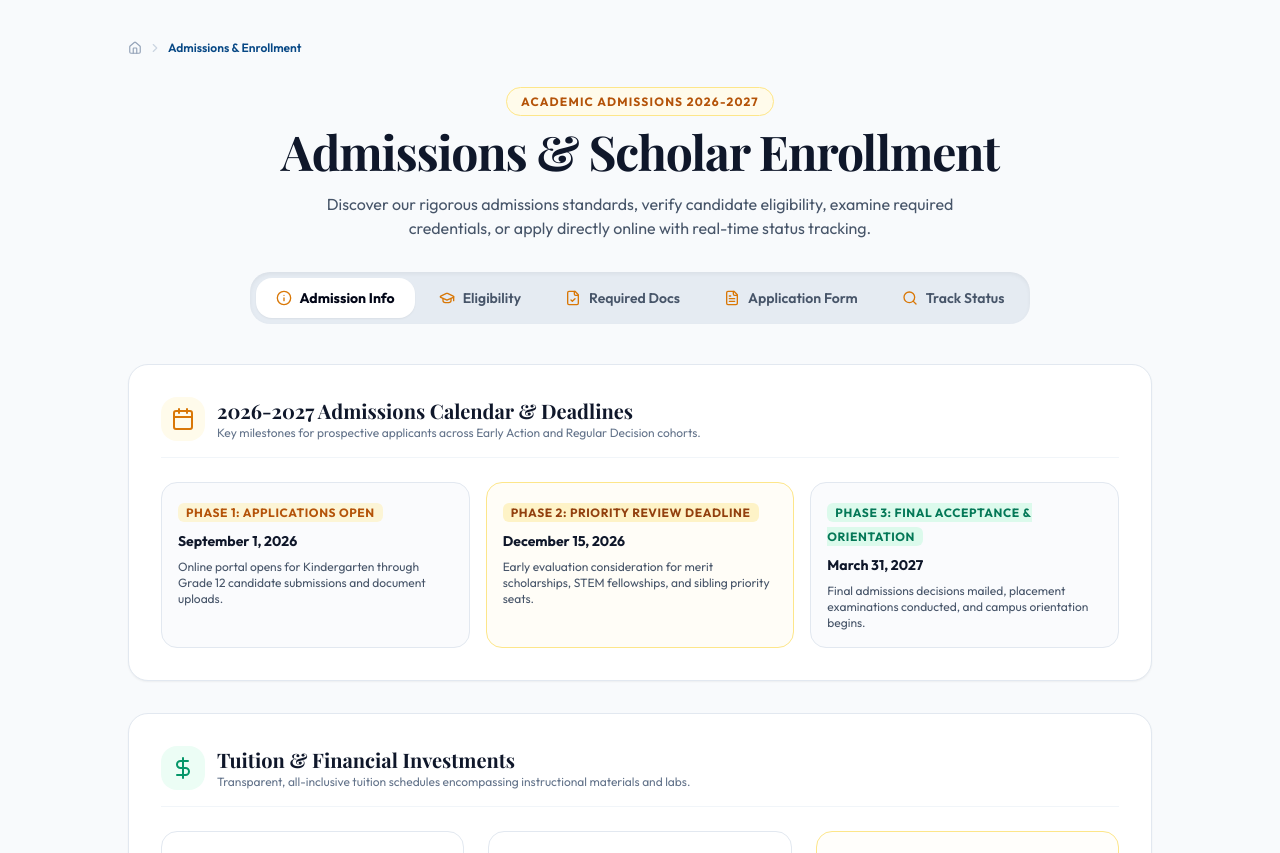
Test case: Phase 14 — Complete Admissions Workflow Test Suite › 2. Public Admissions Portal — Multi-Step Application Form & Draft Saving › allows saving application as draft and returns draft reference code
This screenshot has width=1280, height=853.
Click the button "Application Form": (791, 298) [704, 278, 878, 318]
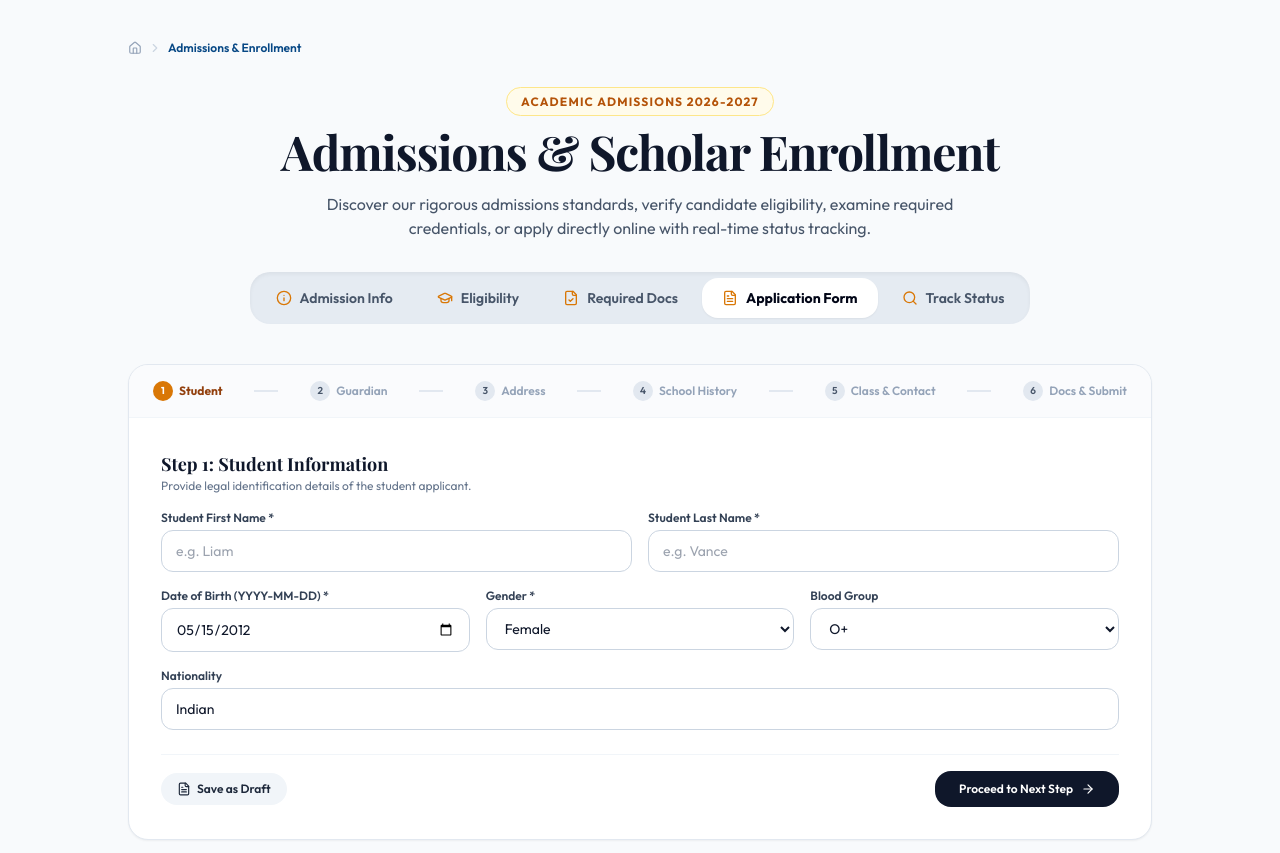
Note: Fill basic student info
In the field with placeholder "e.g. Liam": (396, 551) [161, 530, 632, 572], type "Grace"
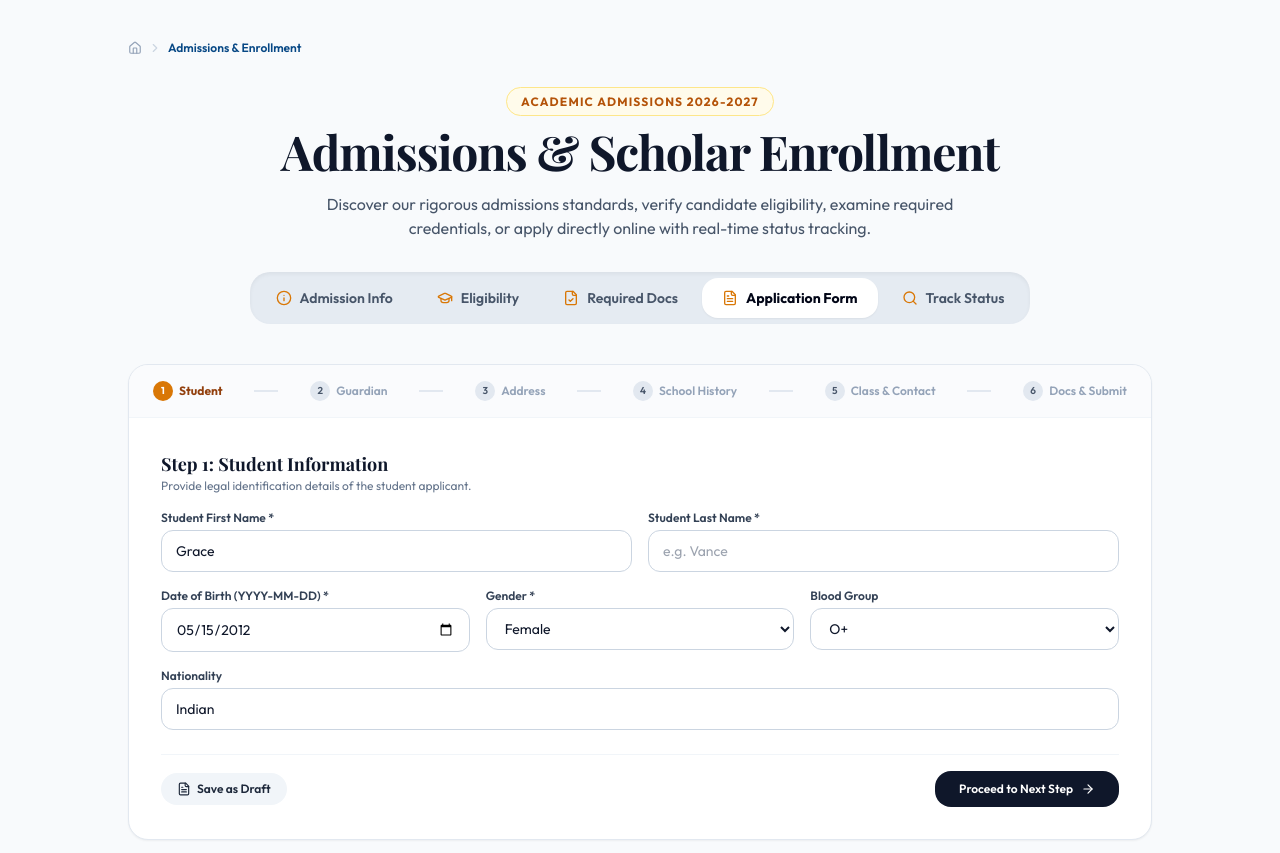
In the field with placeholder "e.g. Vance": (884, 551) [648, 530, 1119, 572], type "Hopper"
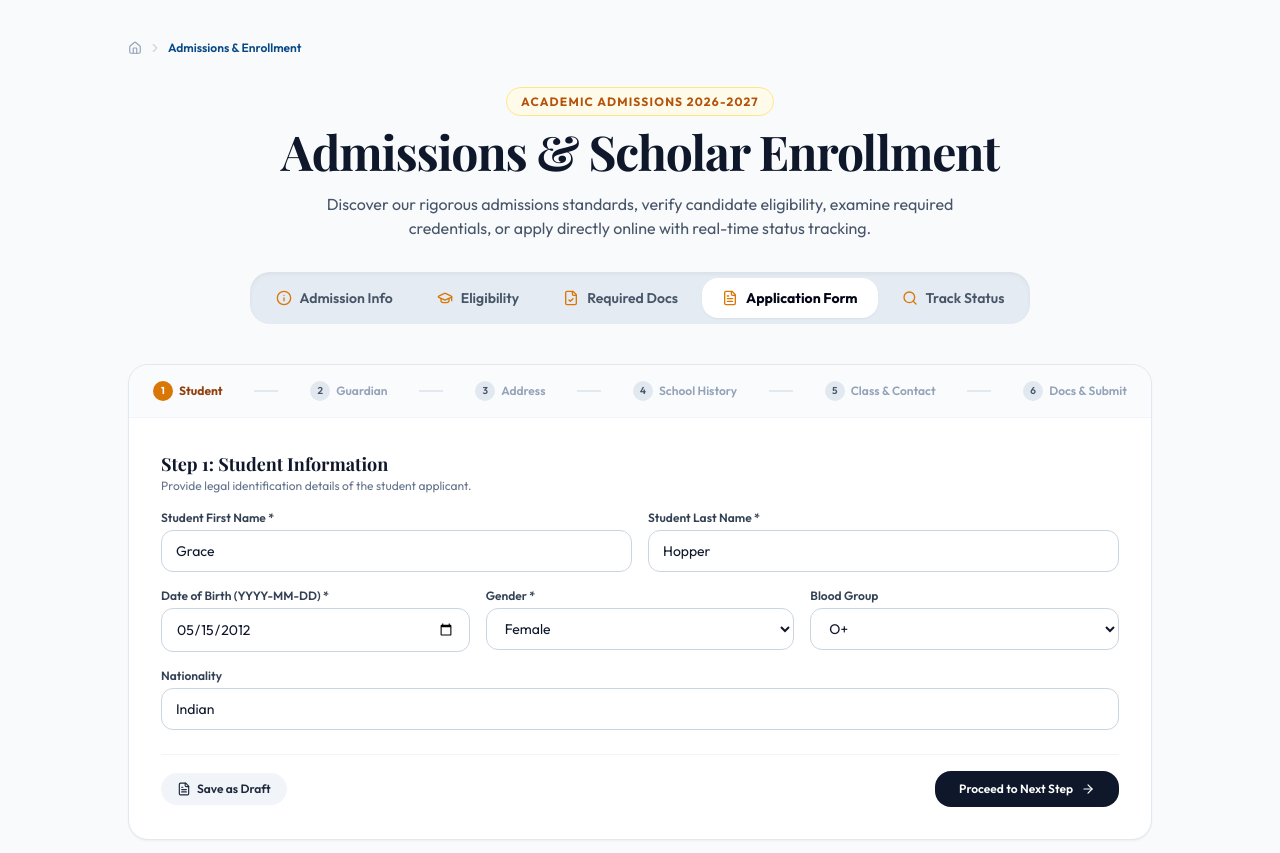
Click the button "Save as Draft": (224, 789) [161, 773, 287, 805]
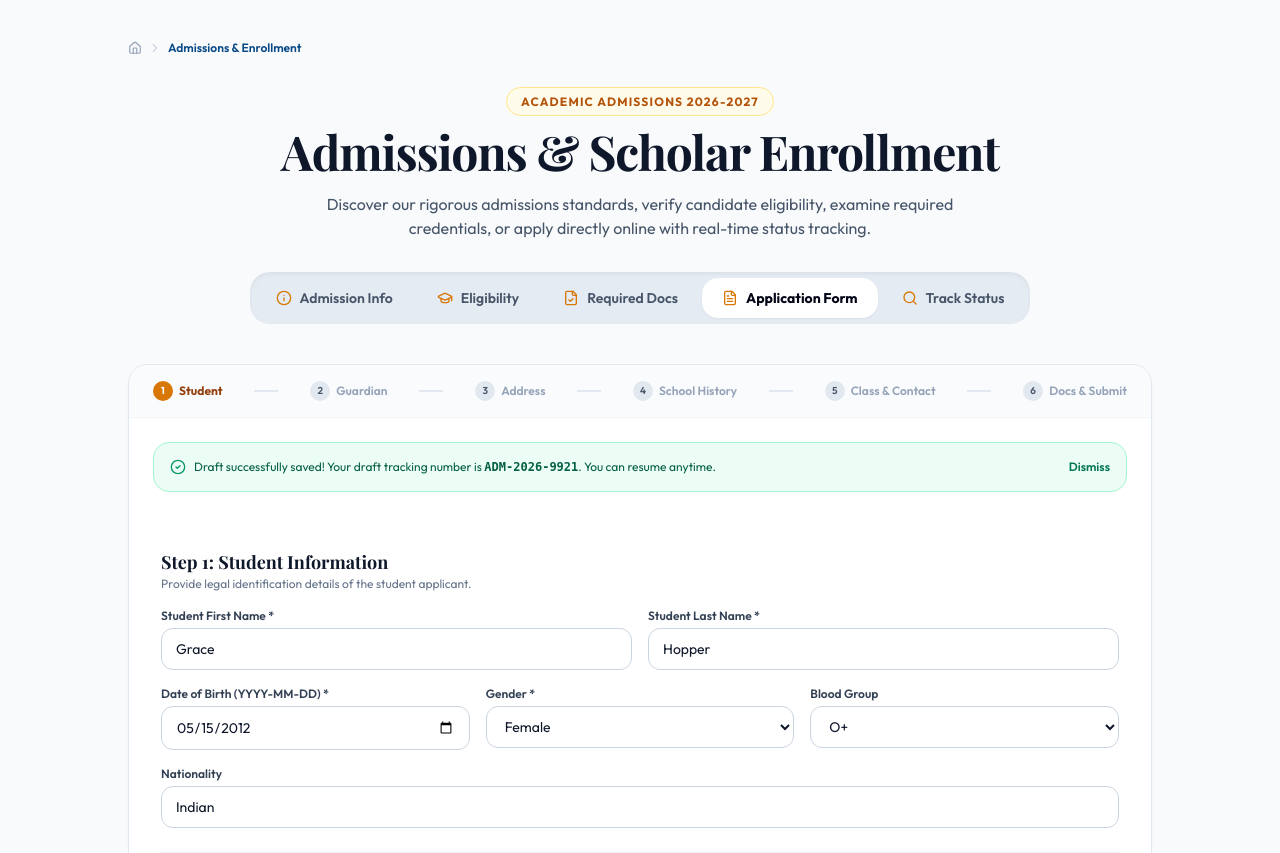
expect the text "Draft successfully saved!" is shown: met, box [194, 459, 482, 474]
expect the text "ADM-2026-9921" is shown: met, box [484, 460, 578, 474]
